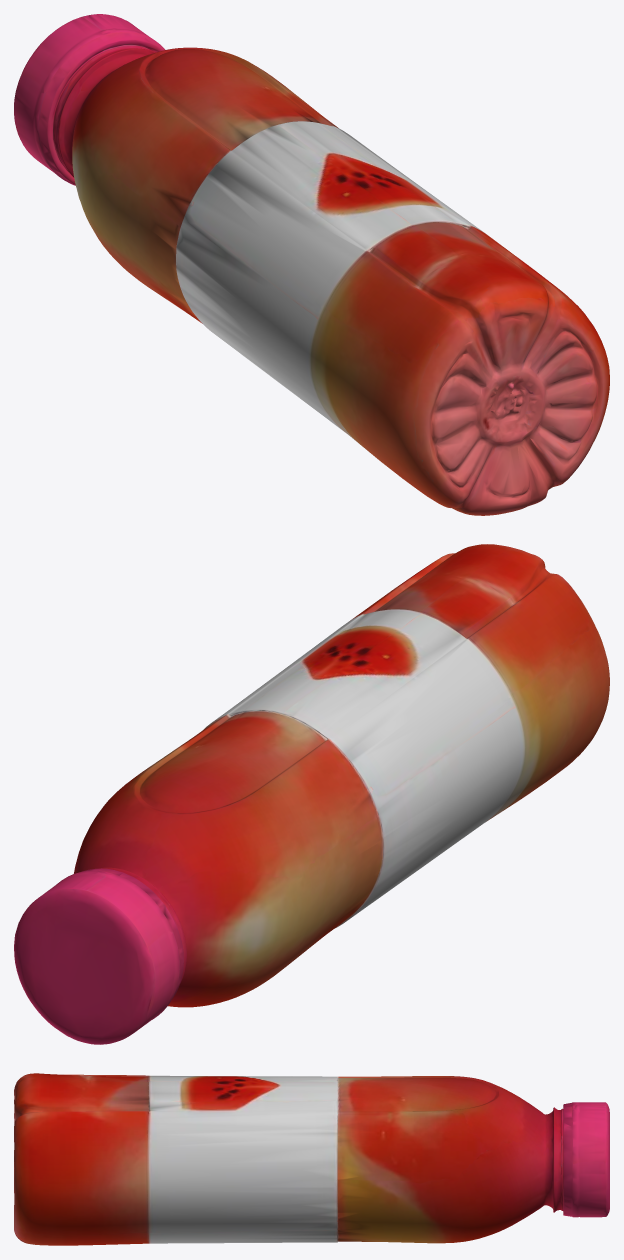
The model's file is item-hint.glb.
The picture shows the model from 3 angles, top to bottom: view 1: azimuth 30°, elevation 25°; view 2: azimuth 150°, elevation 25°; view 3: azimuth 270°, elevation 25°; orthographic projection. The views are drawn at different scales.
Visible parts, largest first — view 1: material; view 2: material; view 3: material.
Boxes of the visible parts, bbox=[...] form: material: bbox=[14, 14, 609, 515]; material: bbox=[14, 544, 609, 1044]; material: bbox=[14, 1073, 609, 1245].
Bounding box in the file's own units: 0.3375 × 0.342 × 1.17.
1 material, 1 textured.
